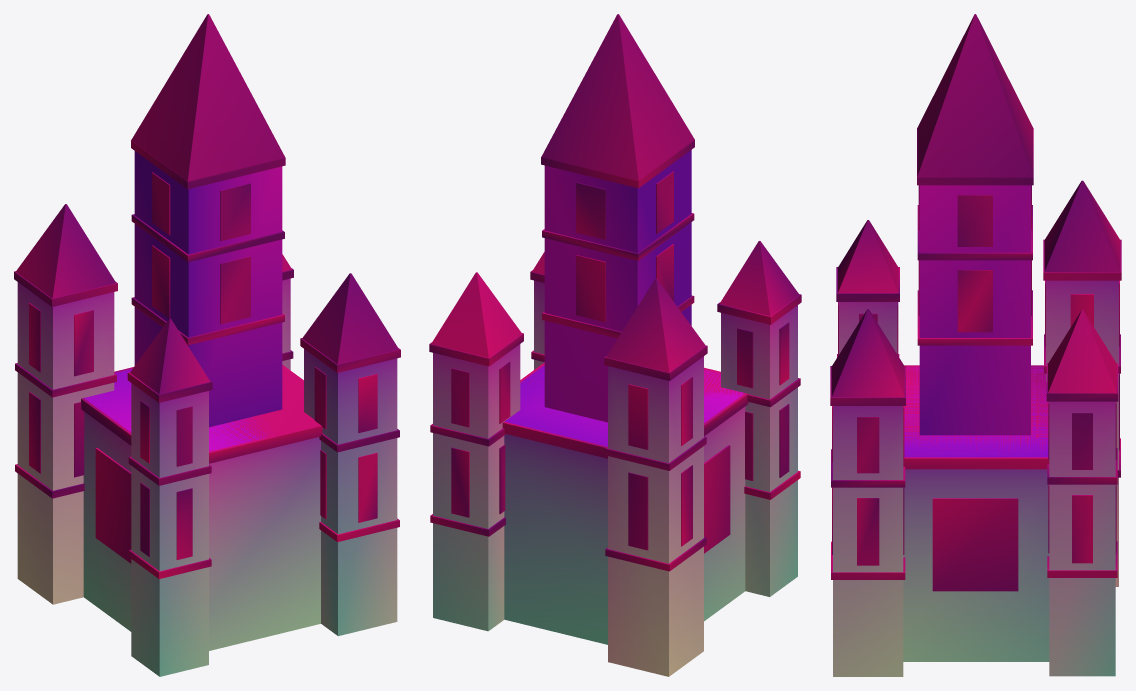
File: radiant_castle_a.glb
3 renders of one model, left to right at view 1: azimuth 30°, elevation 25°; view 2: azimuth 150°, elevation 25°; view 3: azimuth 270°, elevation 25°, orthographic. The views are drawn at different scales.
Visible parts, largest first — view 1: radiant_castle, radiant_castle_win, radiant_castle_gild, radiant_cap, radiant_cap.002, radiant_cap.003, radiant_cap.001; view 2: radiant_castle, radiant_castle_win, radiant_cap, radiant_castle_gild, radiant_cap.002, radiant_cap.004, radiant_cap.001; view 3: radiant_castle, radiant_castle_win, radiant_castle_gild, radiant_cap, radiant_cap.002, radiant_cap.003, radiant_cap.004, radiant_cap.001.
Boxes of the visible parts, bbox=[...] form: radiant_castle: bbox=[17, 151, 397, 676]; radiant_castle_win: bbox=[29, 172, 377, 563]; radiant_castle_gild: bbox=[14, 140, 400, 578]; radiant_cap: bbox=[131, 14, 285, 182]; radiant_cap.002: bbox=[16, 204, 115, 298]; radiant_cap.003: bbox=[302, 273, 398, 364]; radiant_cap.001: bbox=[130, 318, 210, 394]; radiant_castle: bbox=[433, 150, 797, 676]; radiant_castle_win: bbox=[451, 171, 789, 553]; radiant_cap: bbox=[541, 14, 694, 181]; radiant_castle_gild: bbox=[429, 139, 801, 571]; radiant_cap.002: bbox=[606, 278, 705, 372]; radiant_cap.004: bbox=[431, 272, 521, 357]; radiant_cap.001: bbox=[719, 241, 799, 316]; radiant_castle: bbox=[833, 185, 1118, 676]; radiant_castle_win: bbox=[832, 185, 1119, 591]; radiant_castle_gild: bbox=[830, 128, 1121, 579]; radiant_cap: bbox=[917, 14, 1033, 177]; radiant_cap.002: bbox=[1044, 180, 1120, 271]; radiant_cap.003: bbox=[831, 309, 904, 397]; radiant_cap.004: bbox=[1048, 309, 1116, 393]; radiant_cap.001: bbox=[838, 220, 898, 293].
Size of the model in its own units: 17.27 by 39.44 by 17.27.
